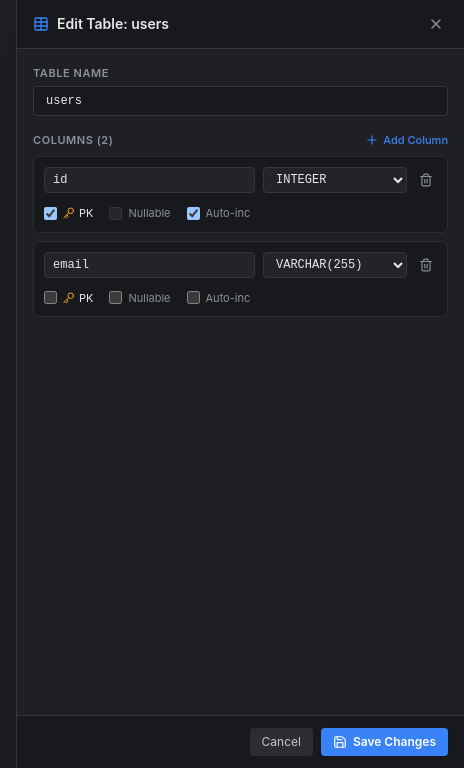
Test: TableDrawer component › allows adding a new column
Click the button "Add Column" at [407, 140], box [365, 132, 448, 148]
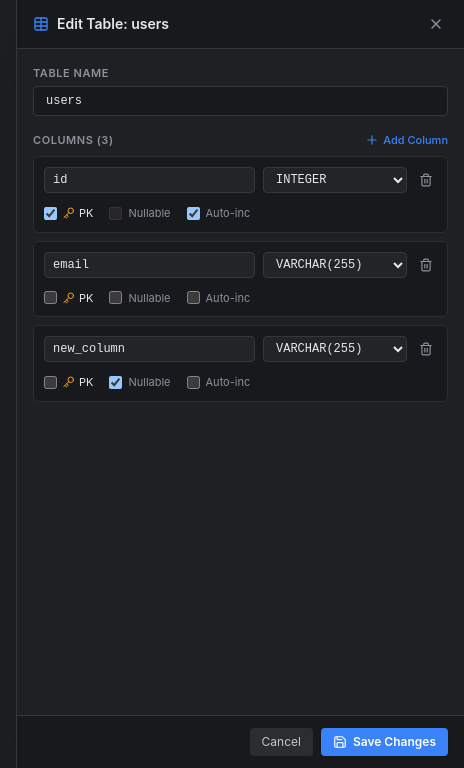
Check: the 4th field showing "new_column" is shown, box [44, 336, 255, 362]
